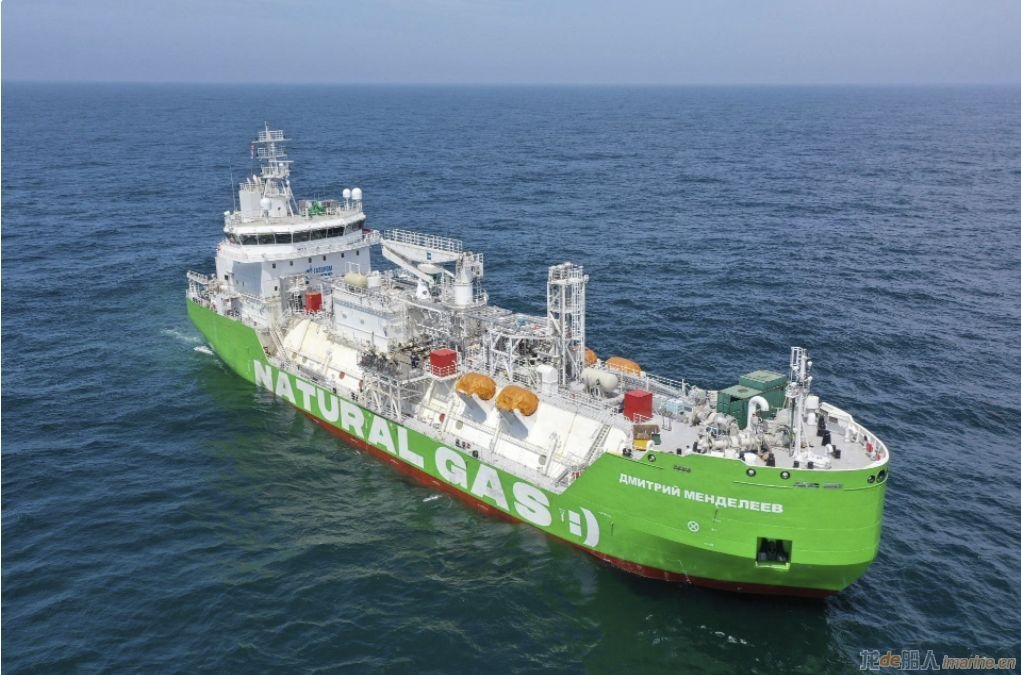Cargoship: (180, 118, 891, 595)
